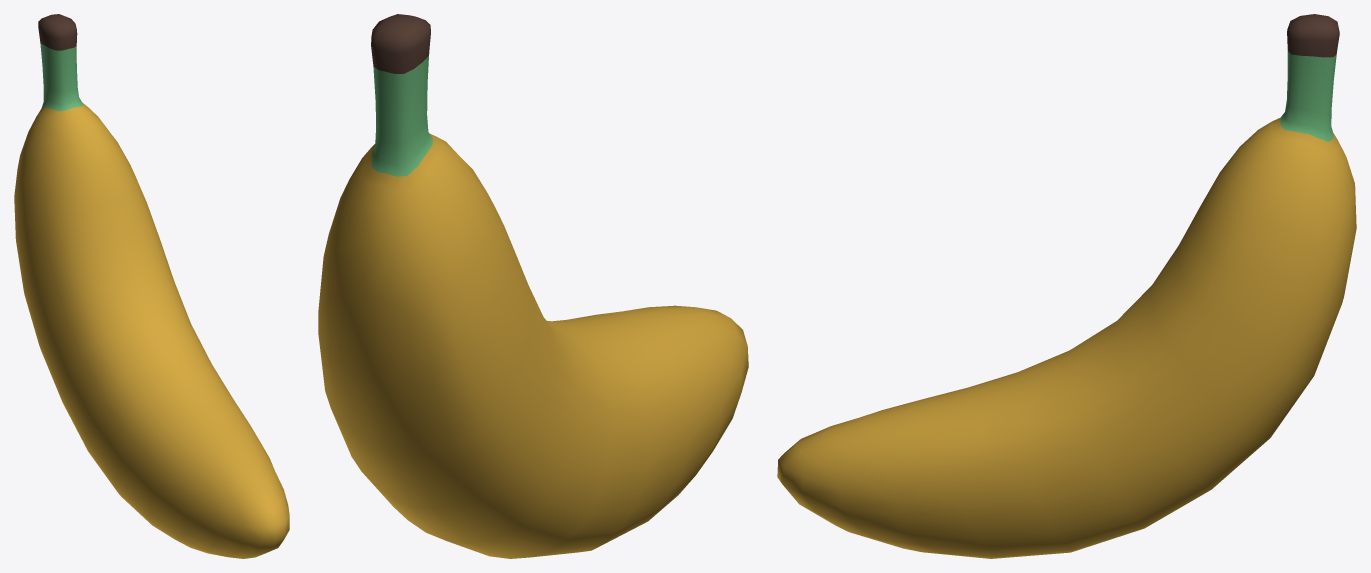
The model's file is Banana_03.dae.
3 renders of one model, left to right at view 1: azimuth 30°, elevation 25°; view 2: azimuth 150°, elevation 25°; view 3: azimuth 270°, elevation 25°, orthographic. The views are drawn at different scales.
Parts seen in each view (by area): view 1: Banana_03_LOD0; view 2: Banana_03_LOD0; view 3: Banana_03_LOD0.
Part boxes in pixels (left/top/right/bottom): Banana_03_LOD0: left=14, top=14, right=289, bottom=558; Banana_03_LOD0: left=318, top=14, right=748, bottom=558; Banana_03_LOD0: left=777, top=14, right=1356, bottom=558.
Size of what is drawn, in the model's own units: 1.83 by 5.92 by 5.92.
